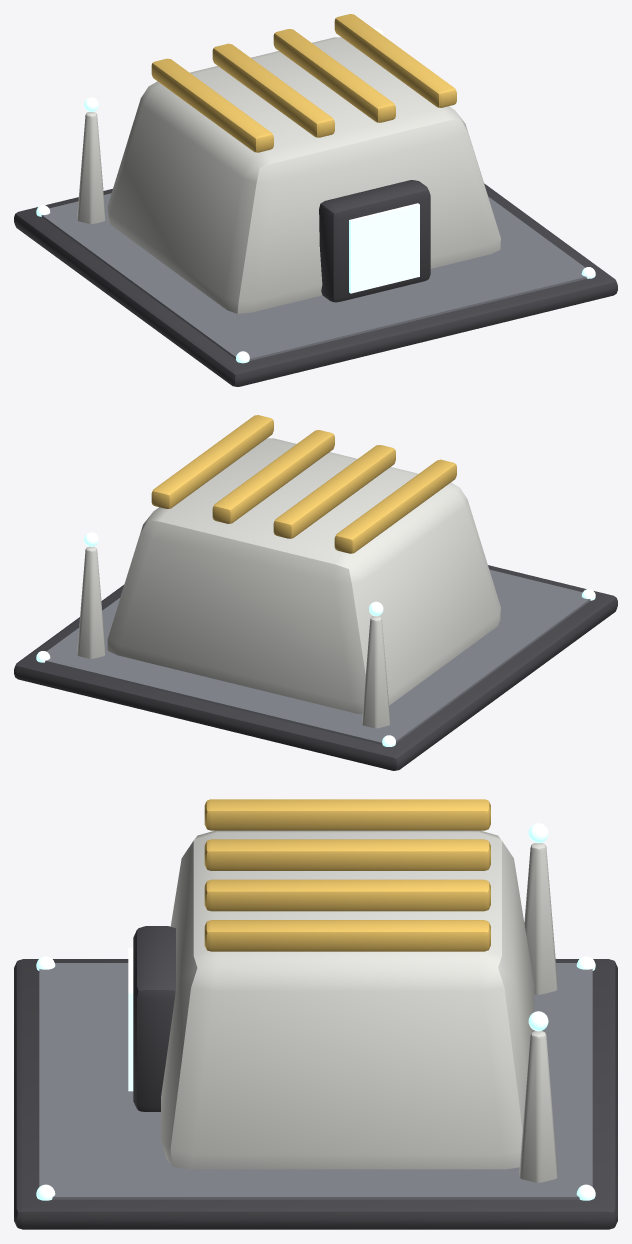
File: barracks_rob.glb
3 views of the same model, one above another, from view 1: azimuth 30°, elevation 25°; view 2: azimuth 150°, elevation 25°; view 3: azimuth 270°, elevation 25° (orthographic). The views are drawn at different scales.
Parts seen in each view (by area): view 1: barracks_rob; view 2: barracks_rob; view 3: barracks_rob.
Boxes of the visible parts, box(x1,y1,x2,y2) form: barracks_rob: box(14, 14, 617, 386); barracks_rob: box(14, 415, 617, 770); barracks_rob: box(14, 799, 617, 1229).
Bounding box in the file's own units: 1.9 × 0.84 × 1.9.
